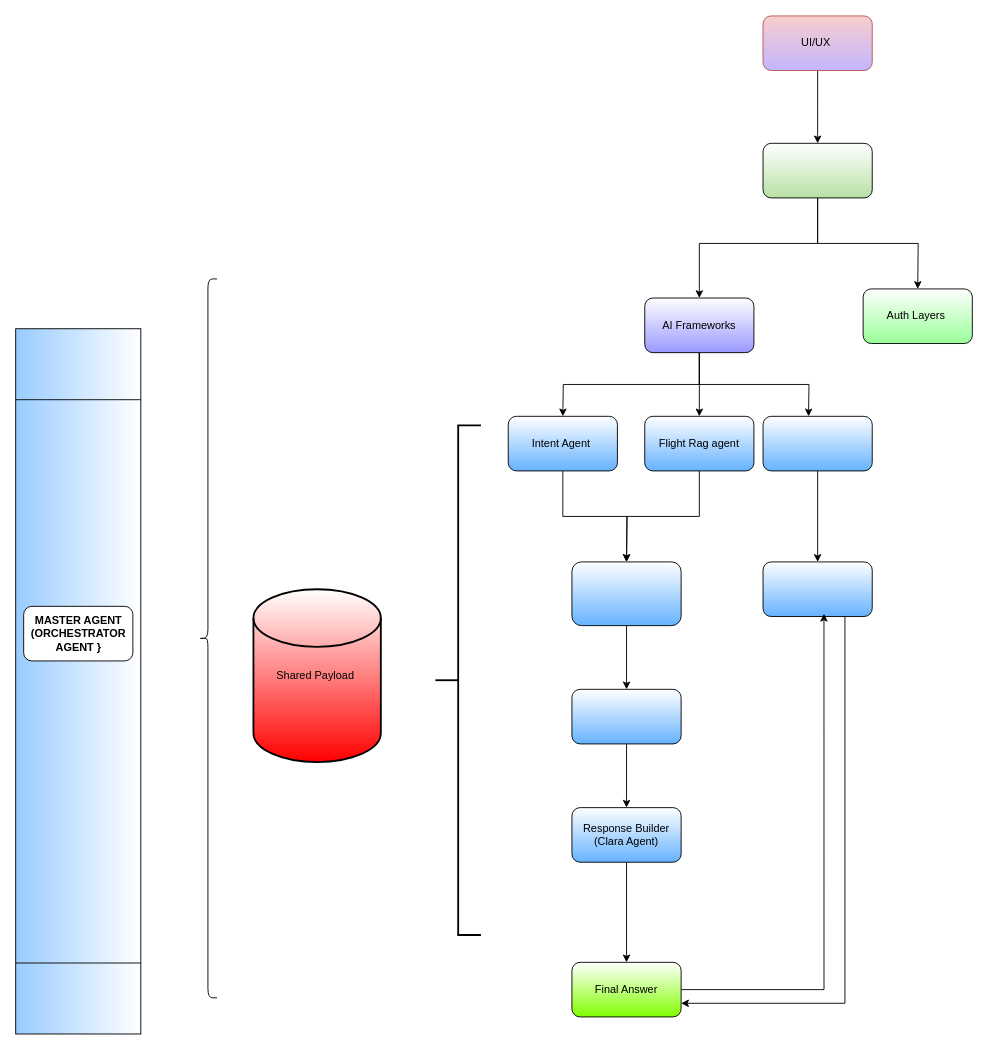
This 989x1050 diagram has some shape labels left out. The centre of each missing label's shape, as x and y in pixels:
"API gateways" goes at (817,170).
"Context Agent" goes at (817,443).
"Coverage Agent" goes at (817,589).
"Feedback memory agent" goes at (626,716).
"Knowledge Gap Agent" goes at (626,593).
